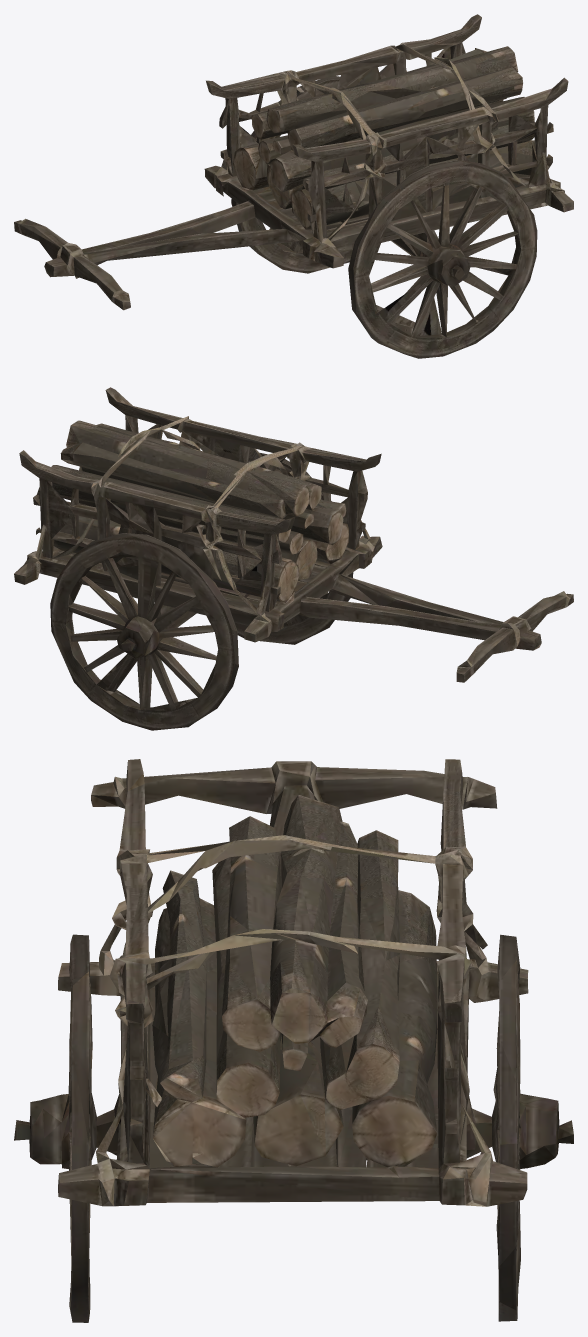
The model's file is timber-cart.glb.
3 views of the same model, one above another, from view 1: azimuth 30°, elevation 25°; view 2: azimuth 150°, elevation 25°; view 3: azimuth 270°, elevation 25° (orthographic). The views are drawn at different scales.
Parts seen in each view (by area): view 1: output_unwrapped; view 2: output_unwrapped; view 3: output_unwrapped.
Boxes of the visible parts, <box> form: output_unwrapped: <box>14,14,573,358</box>; output_unwrapped: <box>14,387,573,730</box>; output_unwrapped: <box>14,759,573,1322</box>.
Size of the model in its own units: 4 by 1.88 by 2.23.
1 material, 1 textured.
